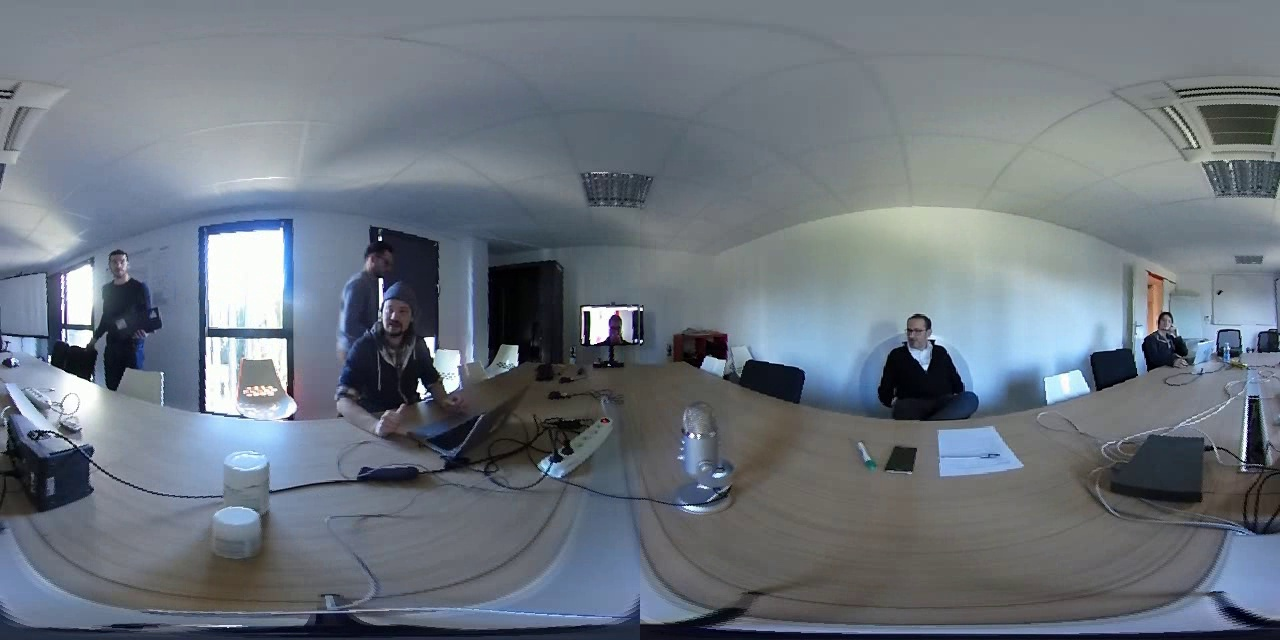person: (880, 300, 971, 422), (80, 240, 167, 359), (368, 291, 423, 404), (335, 244, 416, 289), (1147, 310, 1194, 373), (585, 306, 638, 341)
